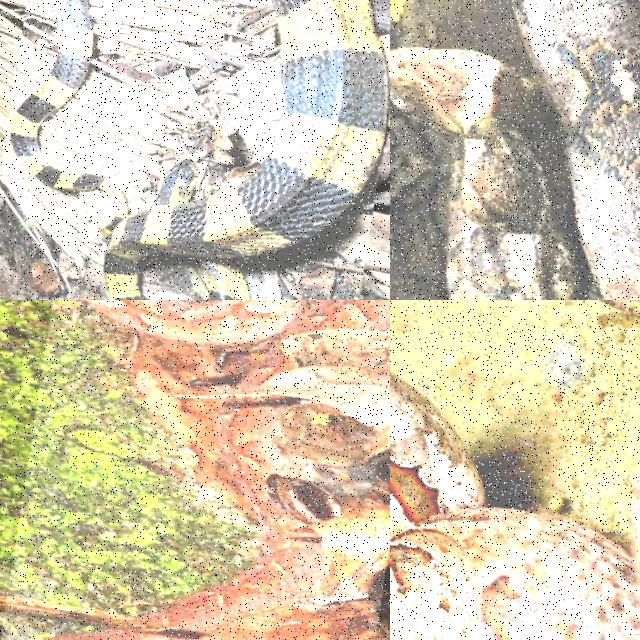Bungarus fasciatus: (11, 0, 388, 299)
Calloselasma rhodostoma: (390, 373, 639, 639), (145, 397, 326, 633)
Malayopython reticulatus: (516, 0, 639, 299)
snake: (11, 0, 388, 299), (390, 373, 639, 639), (145, 397, 326, 633), (516, 0, 639, 299)
